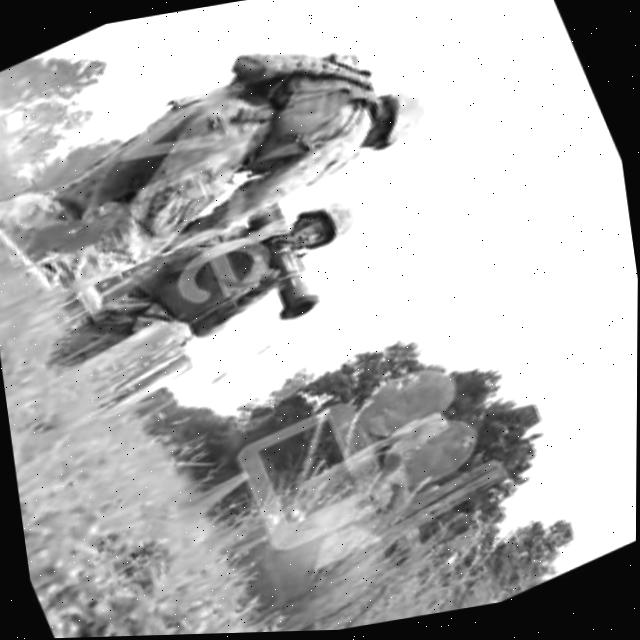rocket: (238, 193, 336, 331)
